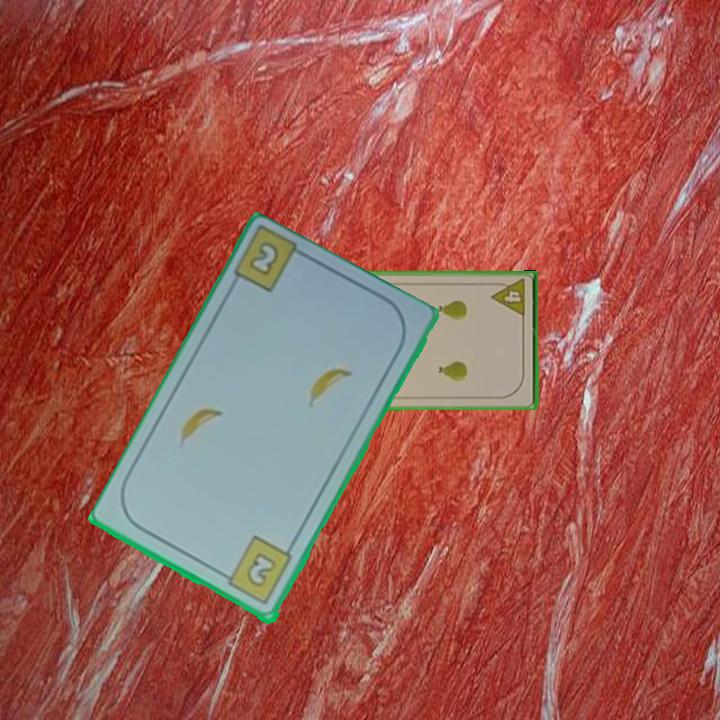2b: (217, 533, 295, 609), (245, 238, 282, 280)
4p: (489, 276, 528, 320)
